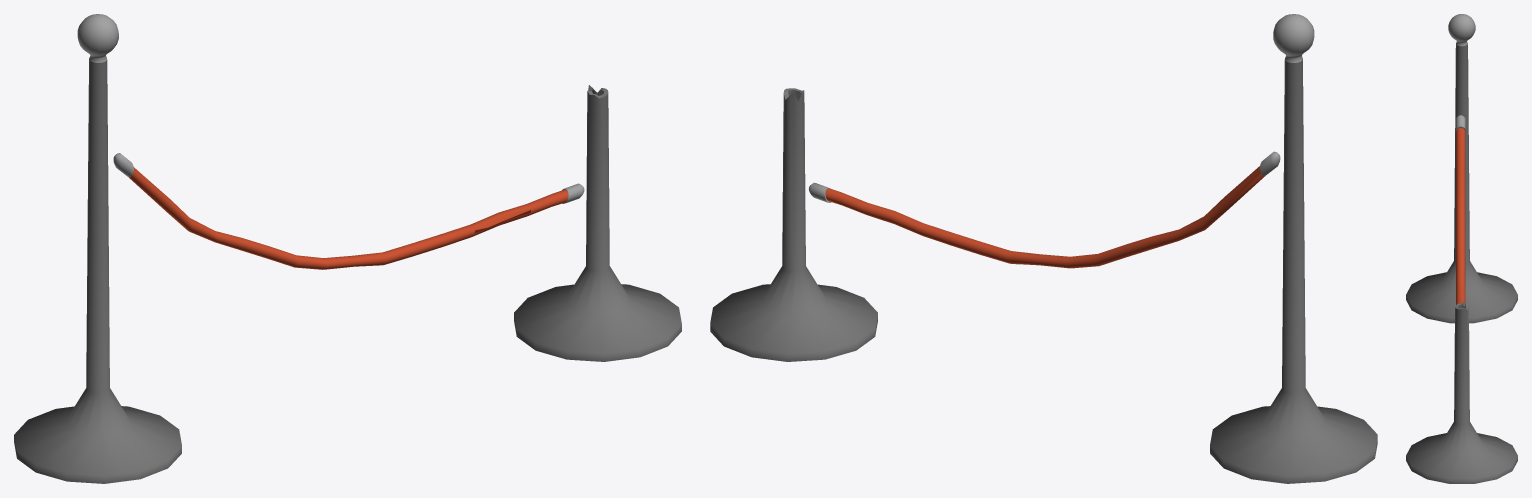
The model's file is MuseumBarrier_Damaged2.fbx.
3 renders of one model, left to right at view 1: azimuth 30°, elevation 25°; view 2: azimuth 150°, elevation 25°; view 3: azimuth 270°, elevation 25°, orthographic. The views are drawn at different scales.
Parts seen in each view (by area): view 1: MuseumBarrier_Damaged2; view 2: MuseumBarrier_Damaged2; view 3: MuseumBarrier_Damaged2.
Part boxes in pixels (x1=…): MuseumBarrier_Damaged2: x1=14, y1=14, x2=681, y2=483; MuseumBarrier_Damaged2: x1=710, y1=14, x2=1377, y2=483; MuseumBarrier_Damaged2: x1=1406, y1=14, x2=1517, y2=483.
Size of the model in its own units: 233 by 150 by 53.32.
